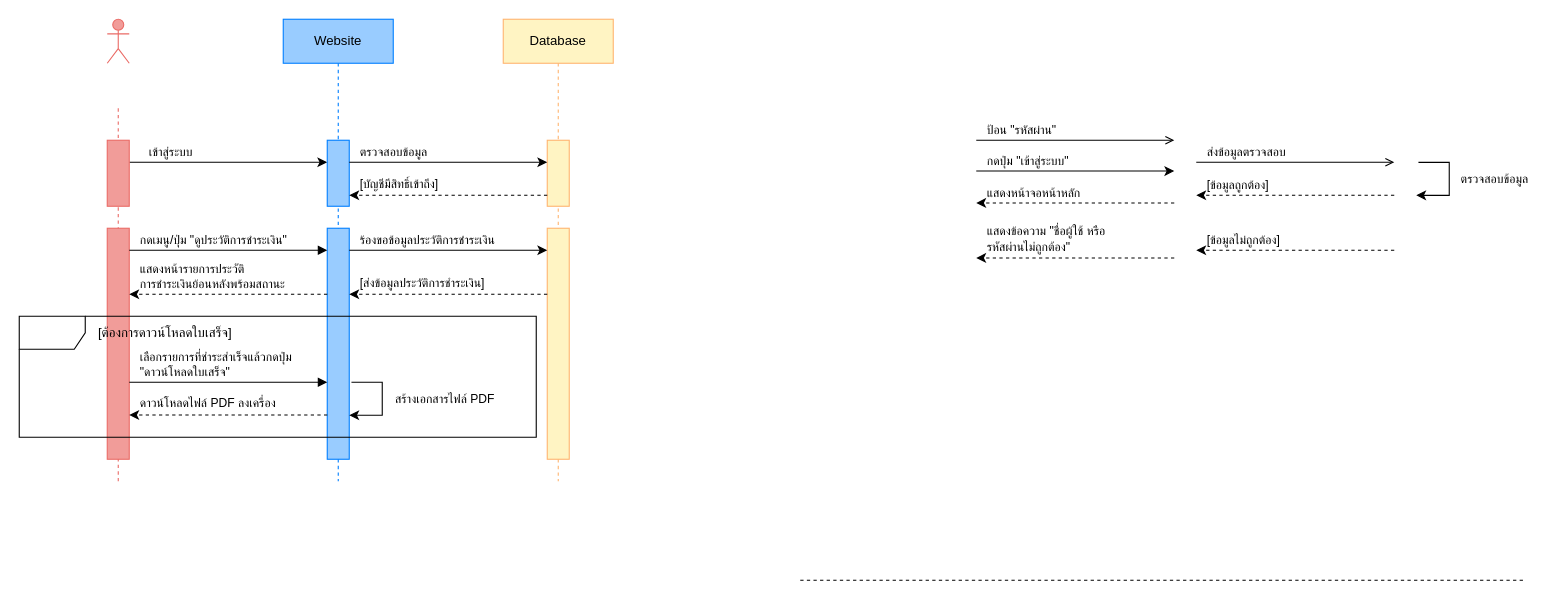
Image size: 1547x601. Some labels were removed from this diagram. The box of each missing label's shape, as (x1, y1, x2, y2) in pixels:
Opt: (18, 315, 536, 437)
ผู้เช่า, พนักงานฯ, ผู้จัดการฯ, เจ้าของบริษัท: (106, 18, 129, 63)
